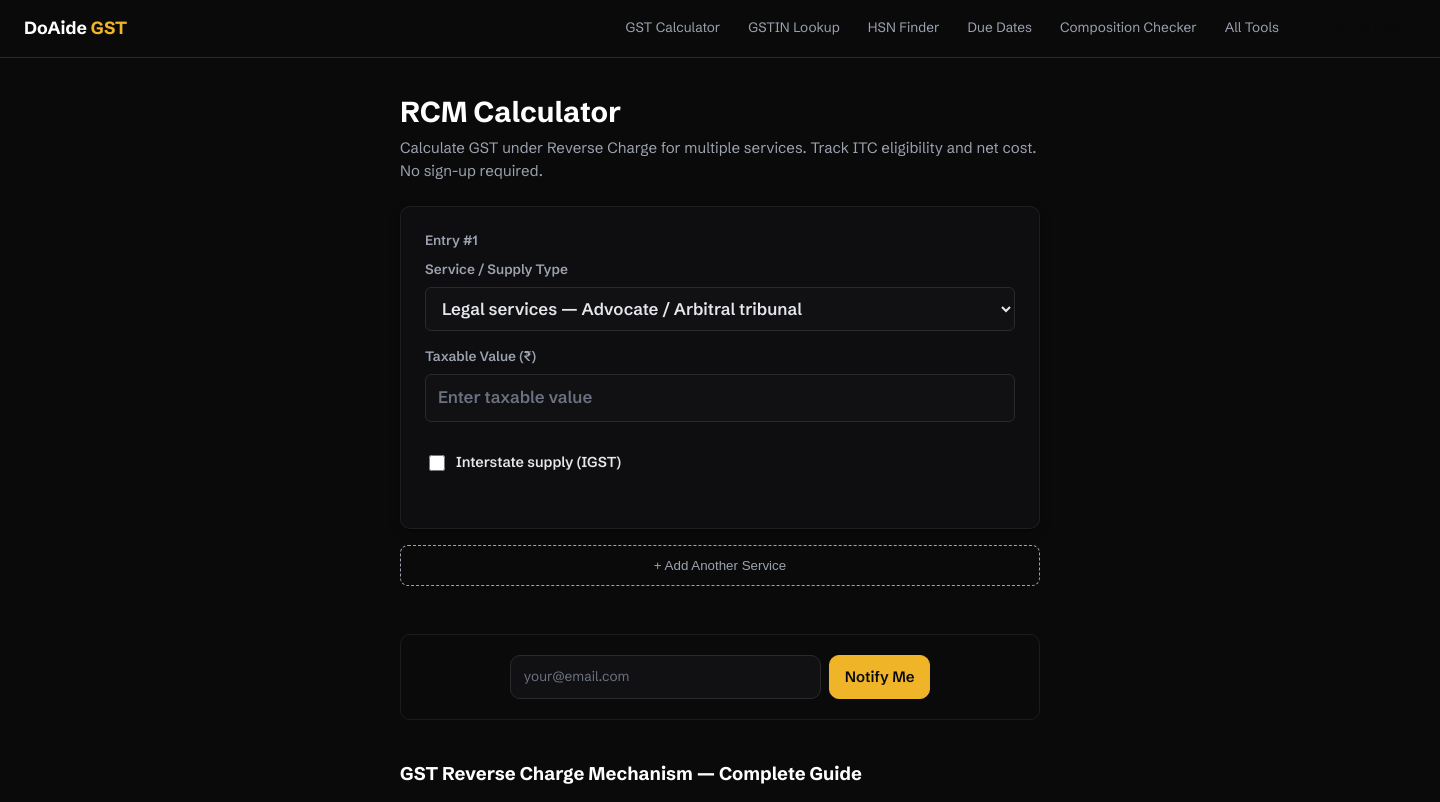
RCMCalculatorPage › shows summary when entries have values
The image size is (1440, 802).
Step 1. Type "100000" into the number field with placeholder "Enter taxable value" → [720, 398], box [425,374,1015,422]
(page scrolled)
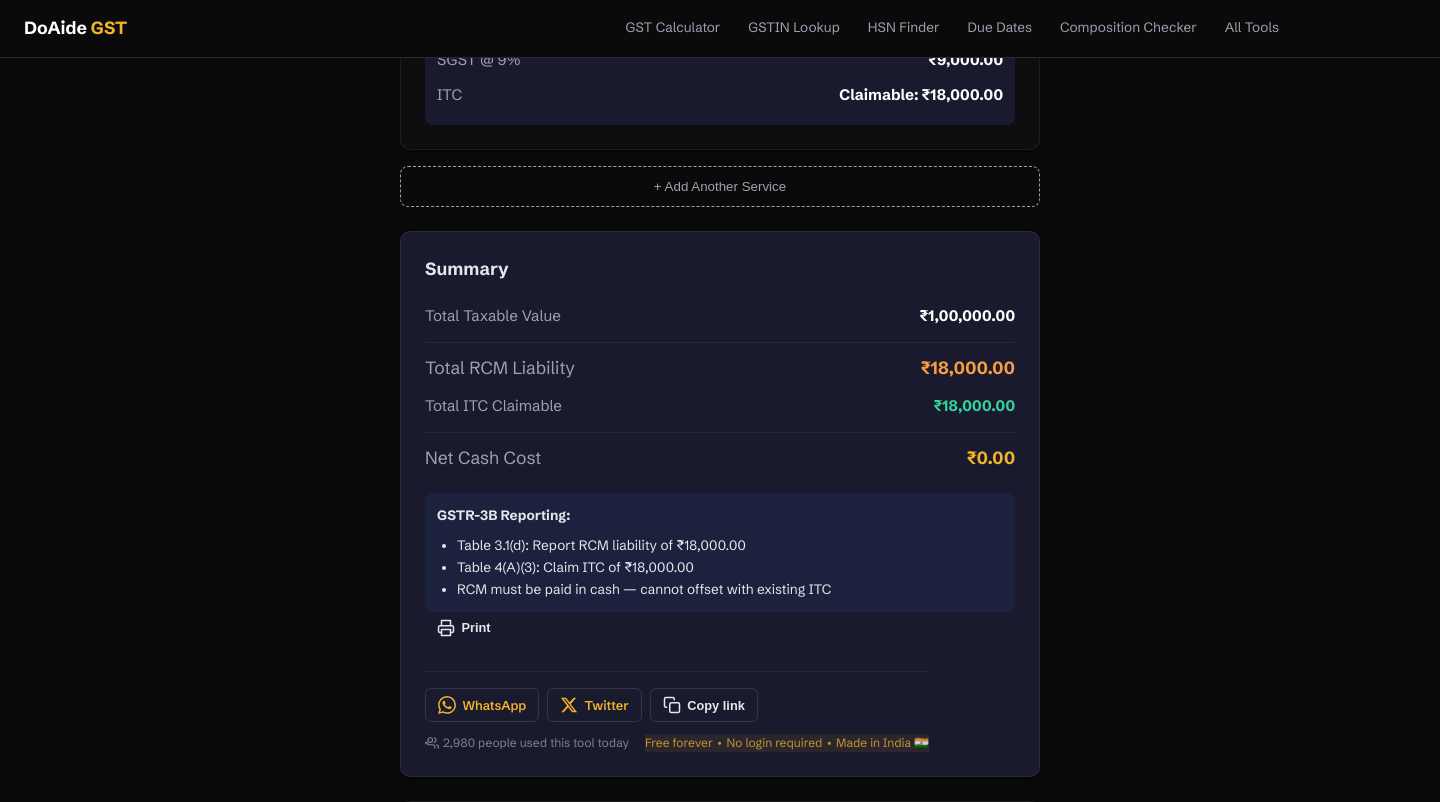
Check: the heading "Summary" is shown, box [425,258,509,280]
Check: the text "Total RCM Liability" is shown, box [425,355,575,382]
Check: the text "Total ITC Claimable" is shown, box [425,394,562,417]
